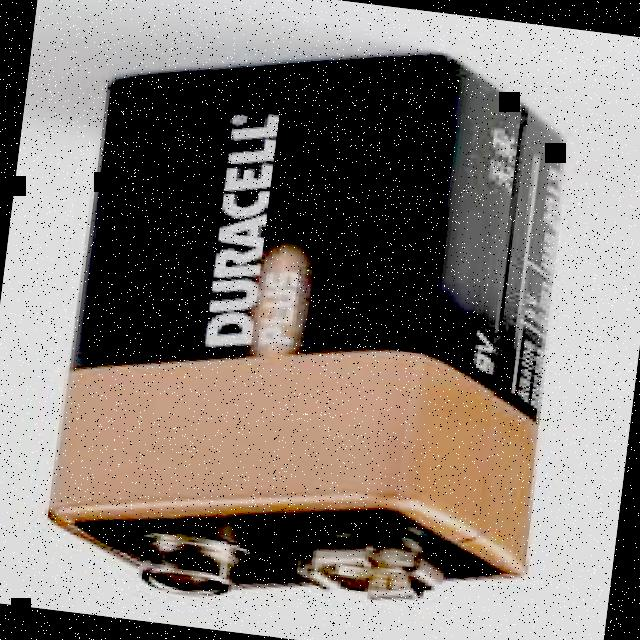battery: (46, 53, 569, 600)
